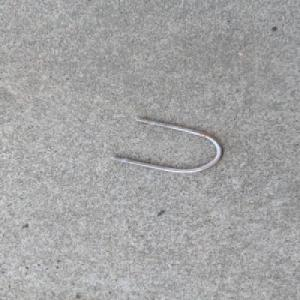ClampPart: (109, 116, 225, 174)
